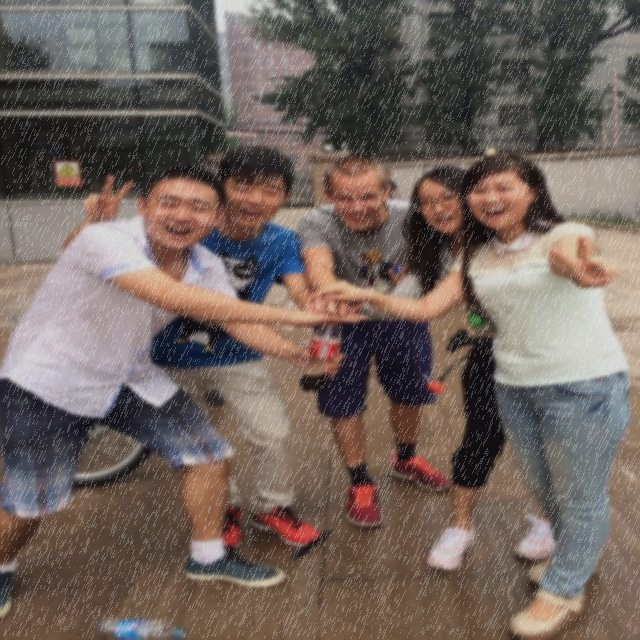pessoa: (1, 162, 374, 622), (296, 149, 638, 639), (52, 138, 376, 554), (302, 164, 563, 574), (296, 154, 458, 528), (373, 166, 399, 202)
